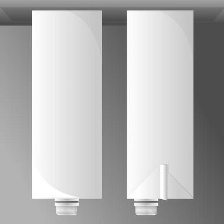carton: (27, 7, 106, 217), (123, 6, 199, 217)
